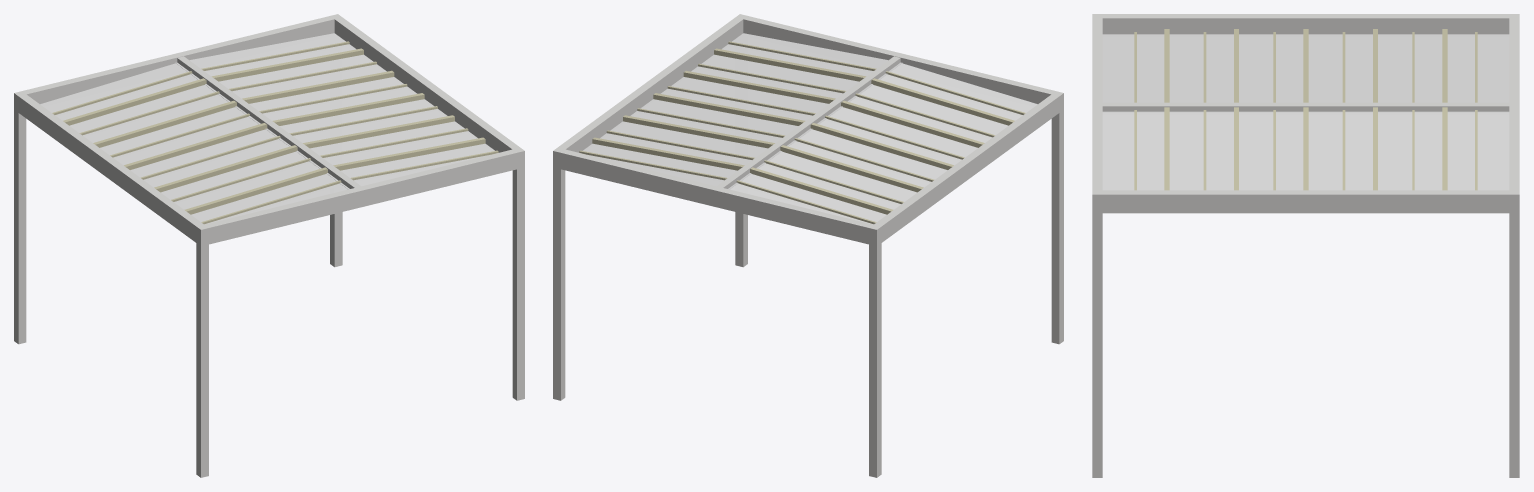
Rendered from hyr-double_h30-w40-l40_matwhite.fbx.
3 views of the same model, side by side, from view 1: azimuth 30°, elevation 25°; view 2: azimuth 150°, elevation 25°; view 3: azimuth 270°, elevation 25° (orthographic). The views are drawn at different scales.
Visible parts, largest first — view 1: hyr-double_h30-w40-l40_matwhite; view 2: hyr-double_h30-w40-l40_matwhite; view 3: hyr-double_h30-w40-l40_matwhite.
Part boxes in pixels (x1=…): hyr-double_h30-w40-l40_matwhite: x1=14, y1=14, x2=524, y2=477; hyr-double_h30-w40-l40_matwhite: x1=553, y1=14, x2=1063, y2=477; hyr-double_h30-w40-l40_matwhite: x1=1092, y1=14, x2=1519, y2=477.
Size of the model in its own units: 410 by 300 by 410.
Materials: 3 (2 with a texture image).
